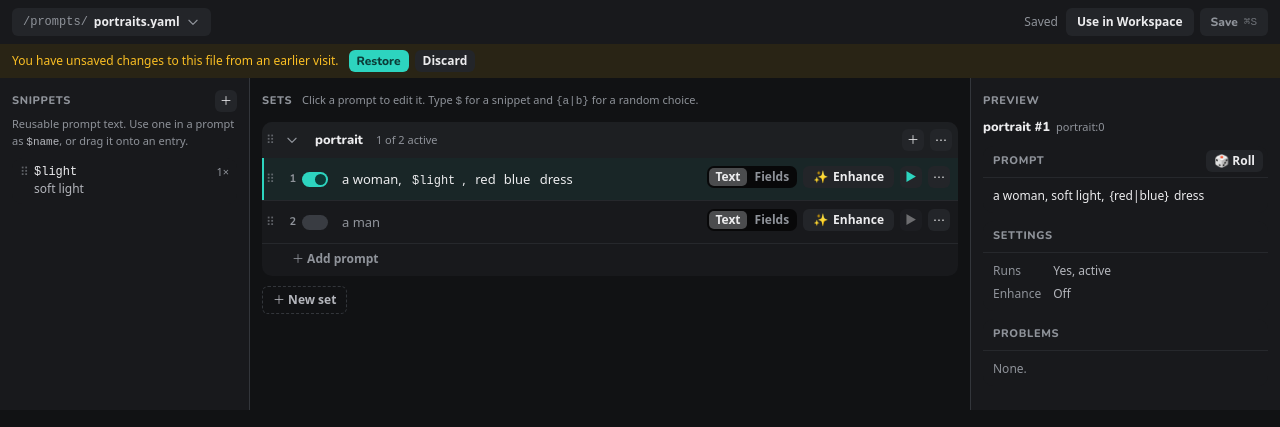
Test: PromptsPage › offers to restore unsaved changes from an earlier visit
The image size is (1280, 427).
Click the button "Restore" at coordinates (379, 61), box [349,50,408,72]
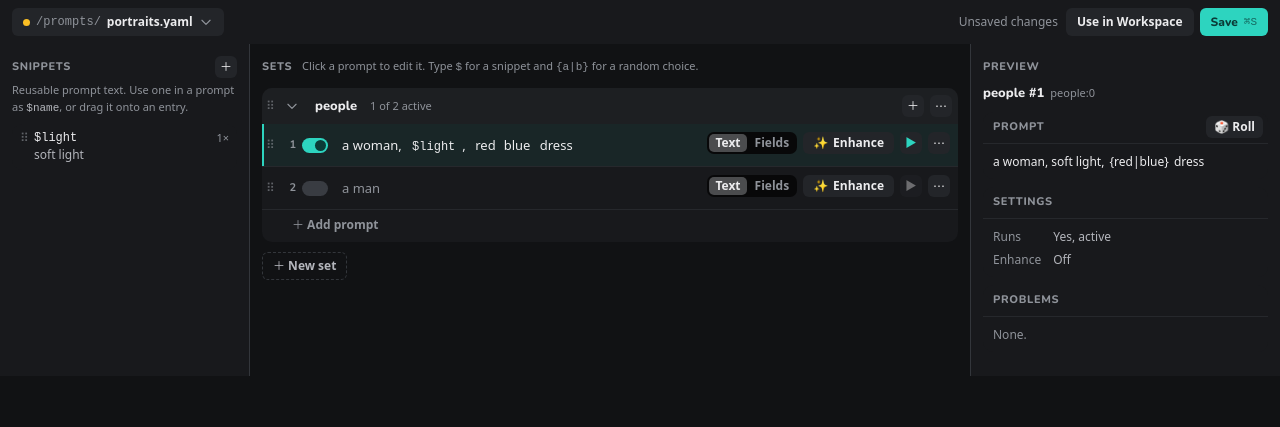
expect the text "Unsaved changes" is shown: met, box [959,13,1058,31]
expect the field named "Set name" holds "people": met, box [308,93,364,119]
